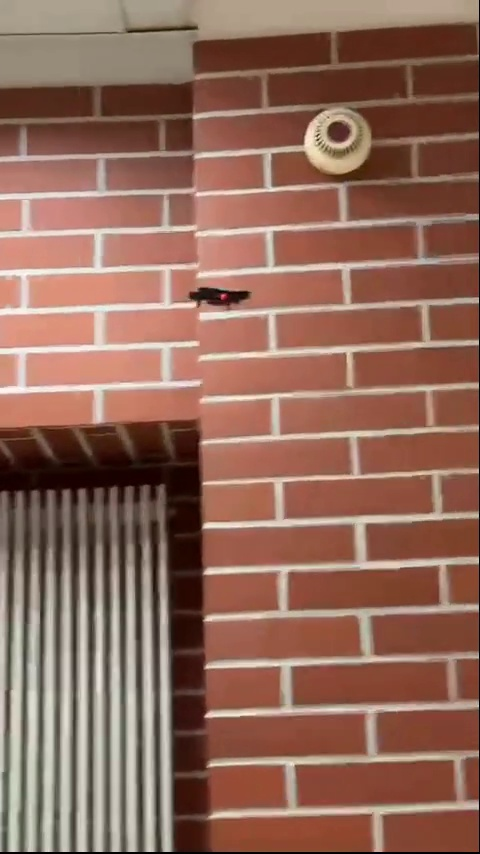drone: (183, 280, 258, 310)
